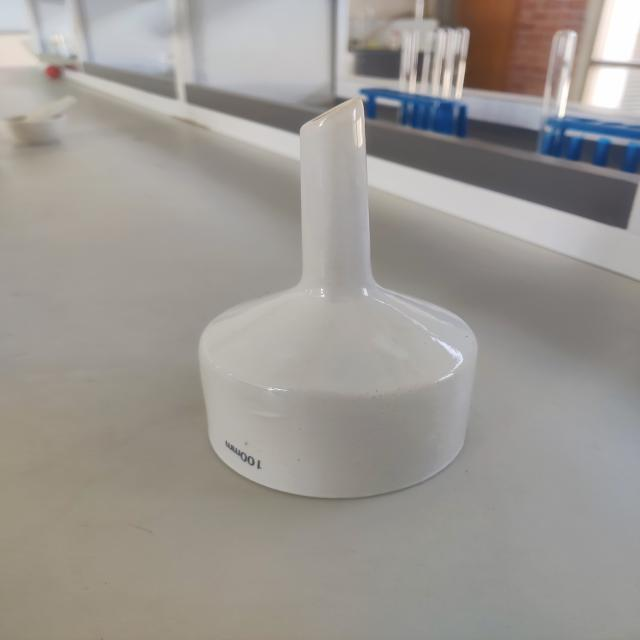Buchner_Funnel: (175, 71, 506, 523)
